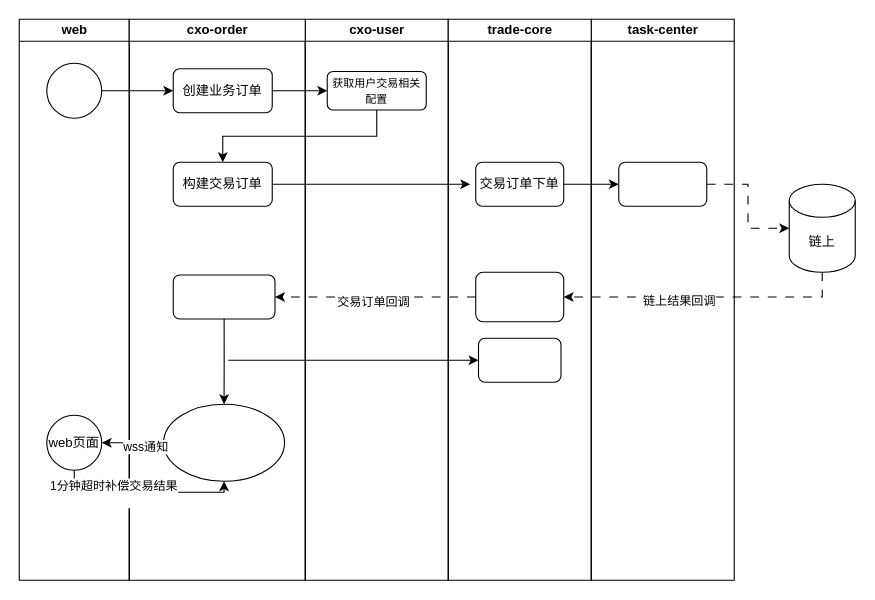
Image size: 875x600. Some labels were removed from this diagram. Each missing label, with the centre of its shape:
下单: pixel 74 90
其他业务处理,邀请返佣，策略返佣: pixel 223 442
接收交易订单交易结果: pixel 223 296
接收链上交易结果: pixel 519 296
获取订单详情: pixel 519 359
订单流转: pixel 662 183
